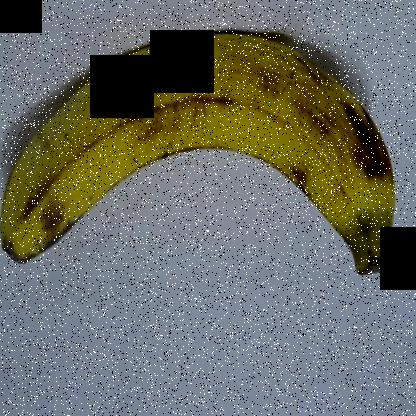ripe: (1, 13, 406, 286)
